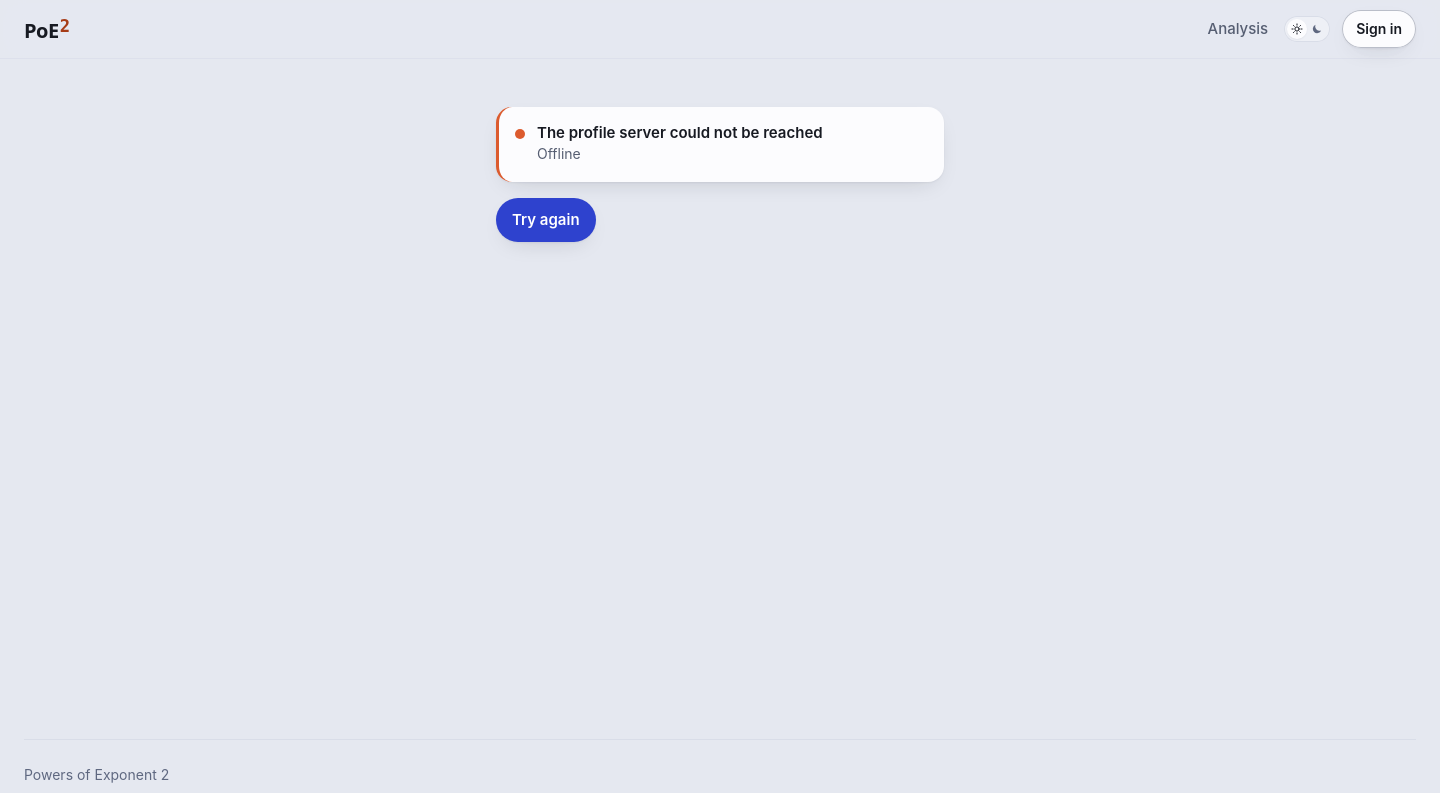
it: public player page › retries explicitly after a transient failure
Click the button "Try again": (546, 220) [496,198,596,242]
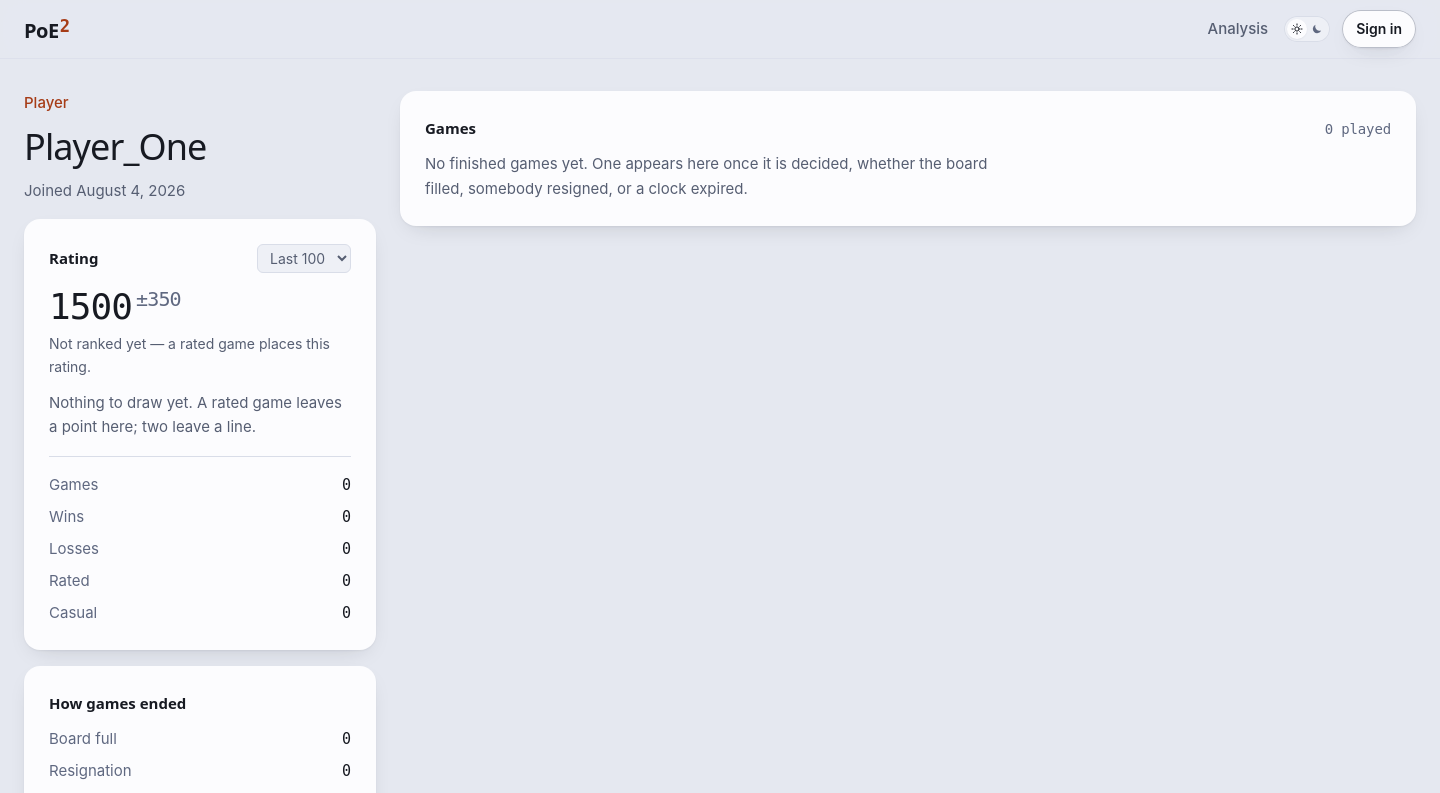
Check: the heading "Player_One" is shown, box [24,122,206,171]
